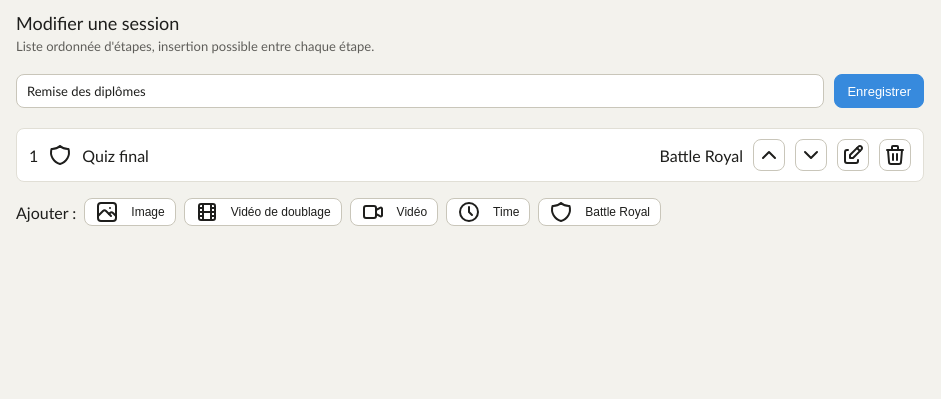
Test case: SessionCreationScreen - editing an existing workflow › joins a persisted array of players into a semicolon-separated string for editing
Click the button named "Modifier l'étape".
click(853, 155)  # box 837,139 -> 869,171
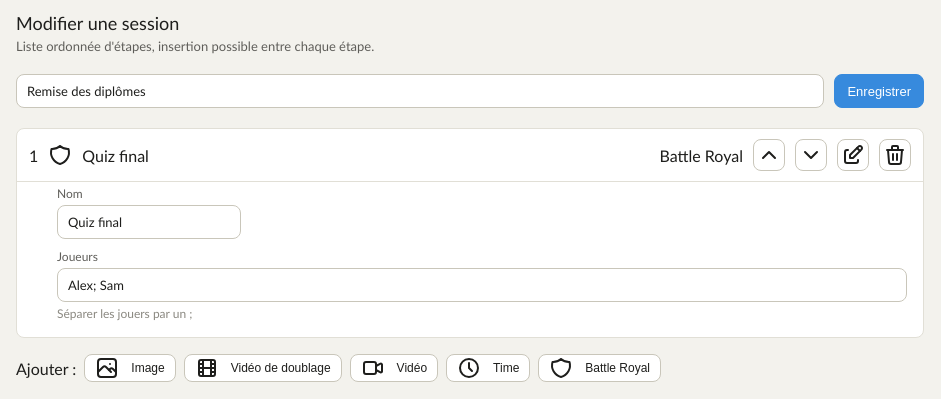
Result: the field labelled "Joueurs" holds "Alex; Sam" at 57,268 -> 907,302
